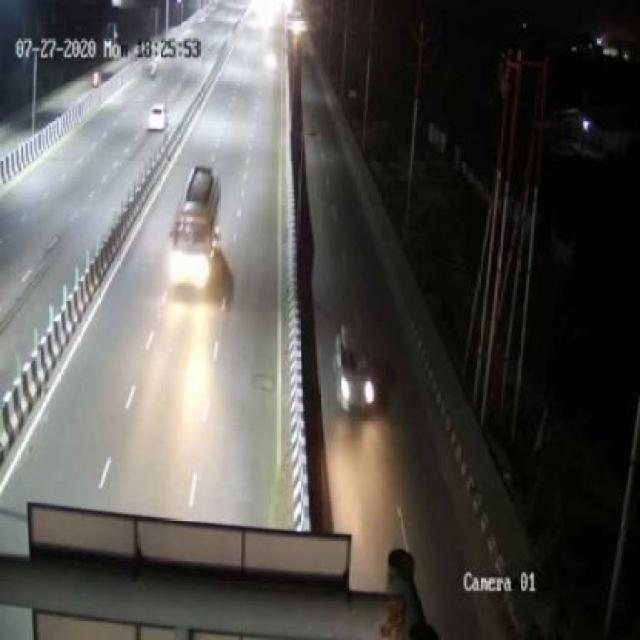car: (326, 330, 383, 408)
